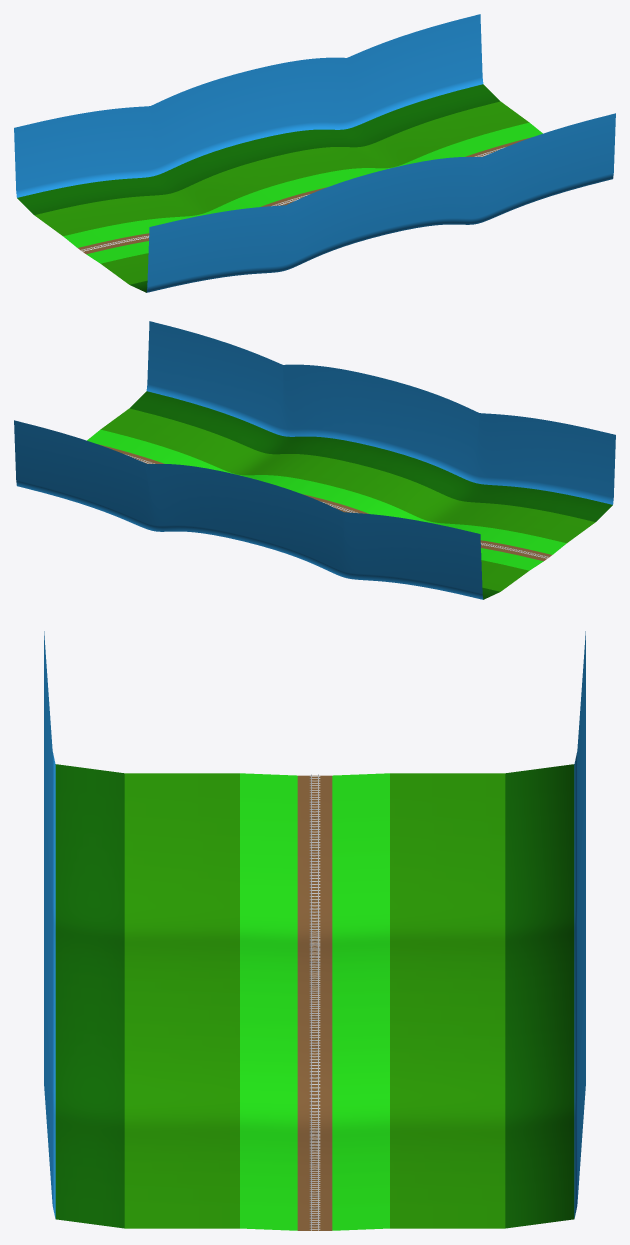
Rendered from Depresion2.fbx.
3 renders of one model, top to bottom at view 1: azimuth 30°, elevation 25°; view 2: azimuth 150°, elevation 25°; view 3: azimuth 270°, elevation 25°, orthographic. The views are drawn at different scales.
Visible parts, largest first — view 1: Depresión+2.002; view 2: Depresión+2.002; view 3: Depresión+2.002.
Part boxes in pixels (x1,y1,x2,y2): Depresión+2.002: (14,14,615,292); Depresión+2.002: (14,321,615,599); Depresión+2.002: (44,631,585,1230).
Size of the model in its own units: 19874 by 3475 by 10000.
